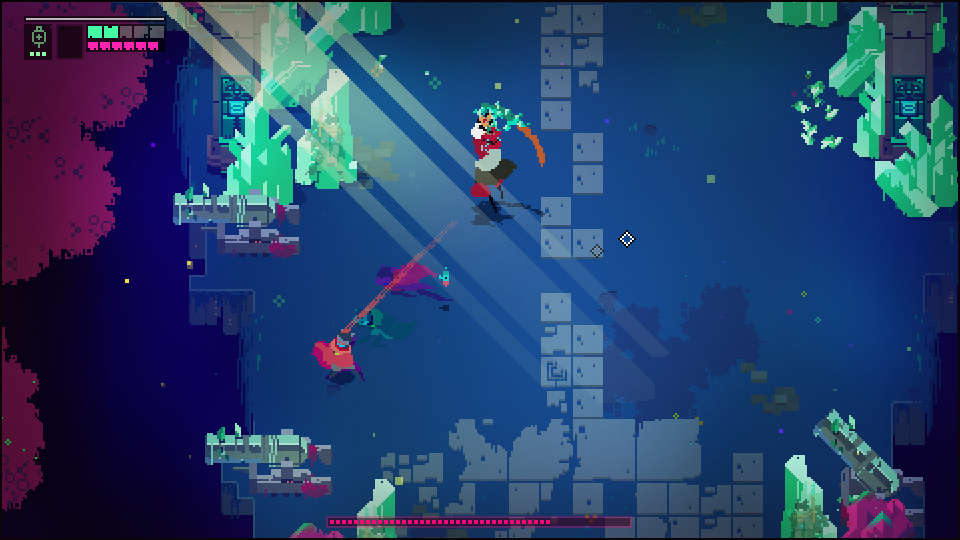hanged_man: (461, 93, 540, 216)
player: (304, 328, 362, 381)
